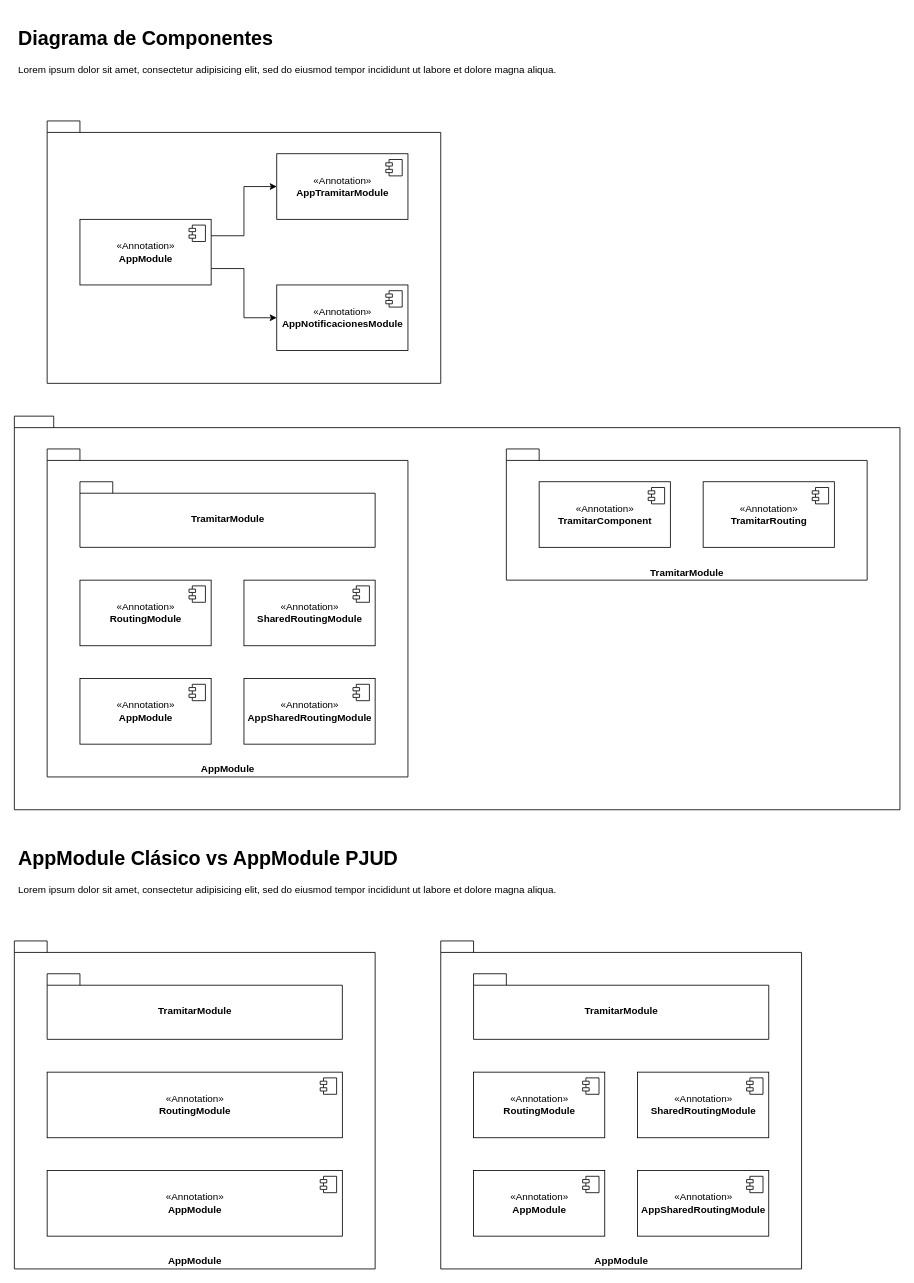
This 914x1283 diagram has some shape labels left out. Each missing label, with the box of its shape:
AppWeb: (46, 120, 441, 383)
ProjectTramitar: (14, 415, 900, 810)
